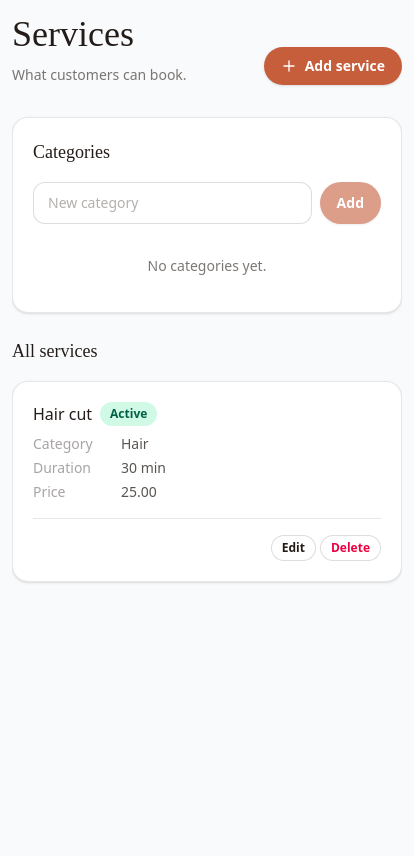
Test: ServicesView — the phone (md:hidden) catalogue list › confirms a delete against the same service
Click the button "Delete".
click(350, 548)  # box [320,535,381,561]
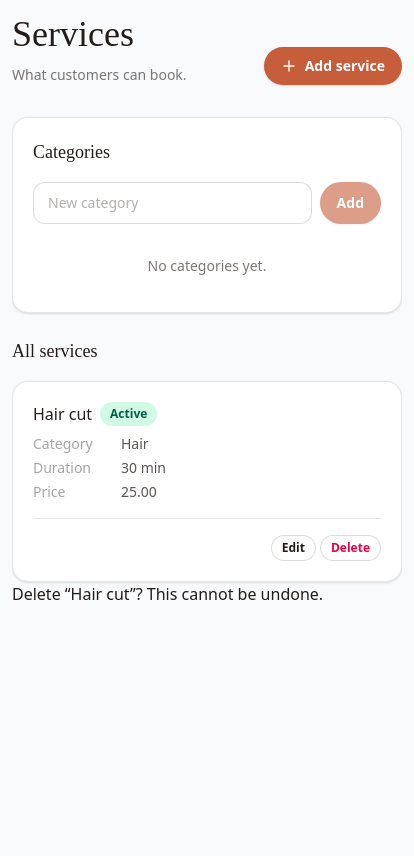
Expected: the text with class "stub-confirm" shows "Hair cut", [12,583,323,605]
